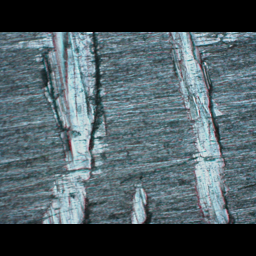d: (160, 32, 238, 223), (40, 32, 101, 224), (124, 180, 156, 224)
